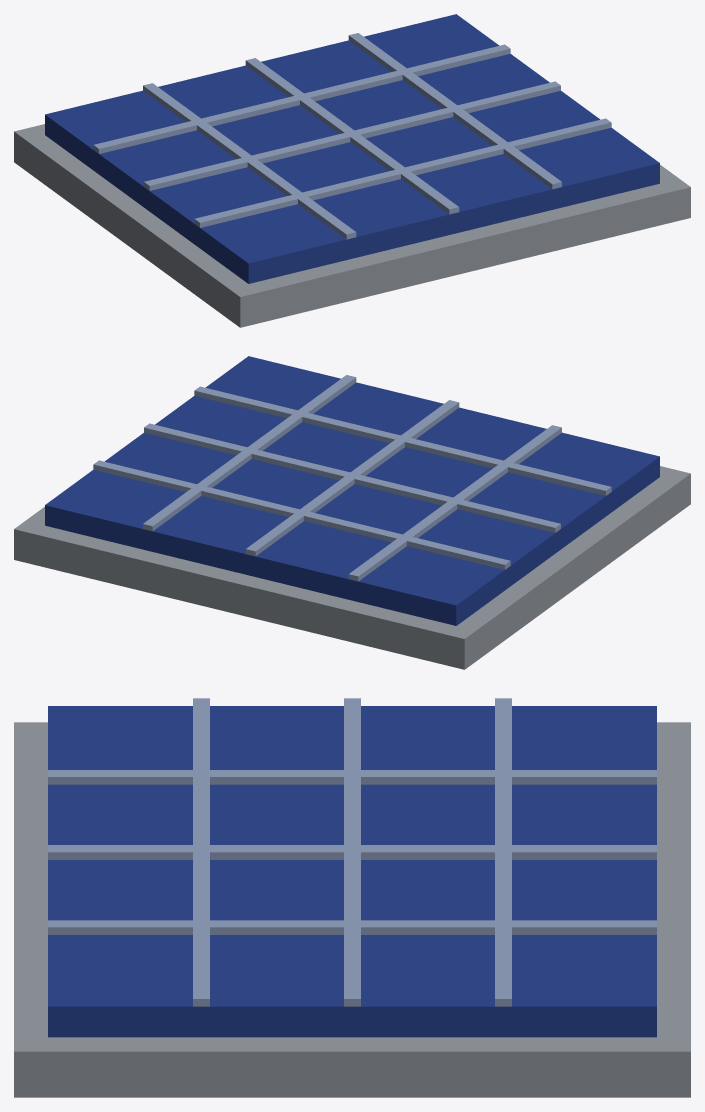
The model's file is item_solar_cell.glb.
3 renders of one model, top to bottom at view 1: azimuth 30°, elevation 25°; view 2: azimuth 150°, elevation 25°; view 3: azimuth 270°, elevation 25°, orthographic. The views are drawn at different scales.
Parts seen in each view (by area): view 1: item_solar_cell; view 2: item_solar_cell; view 3: item_solar_cell.
Boxes of the visible parts, x1,y1,x2,y2 form: item_solar_cell: (14, 14, 690, 327); item_solar_cell: (14, 356, 690, 669); item_solar_cell: (14, 698, 690, 1097).
Size of the model in its own units: 0.92 by 0.11 by 0.8.
